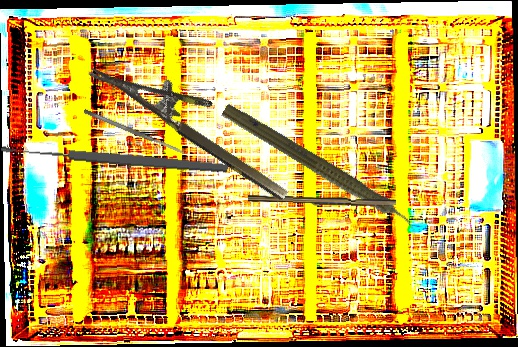Handpiece: (216, 99, 430, 243)
Needle Holder: (87, 36, 307, 204)
Scalpel Handle: (247, 194, 397, 209)
Spatula Surgical: (83, 108, 185, 156)
Surgical Spoon: (0, 142, 229, 175)
